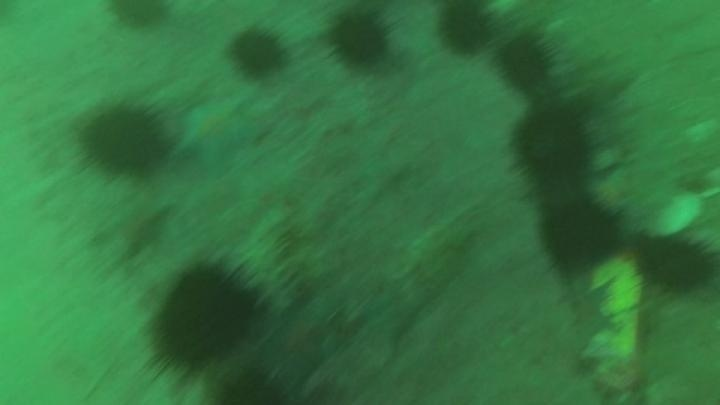echinus: (147, 261, 260, 375), (78, 101, 169, 178), (513, 107, 593, 184), (540, 198, 622, 273), (634, 233, 716, 296), (326, 10, 395, 71), (495, 32, 556, 93), (227, 24, 289, 81), (214, 362, 293, 405), (435, 2, 495, 57), (104, 1, 174, 33)
holothurian: (232, 203, 303, 317)
starfish: (257, 299, 343, 386), (175, 95, 262, 171), (93, 196, 175, 261), (561, 56, 635, 113)
